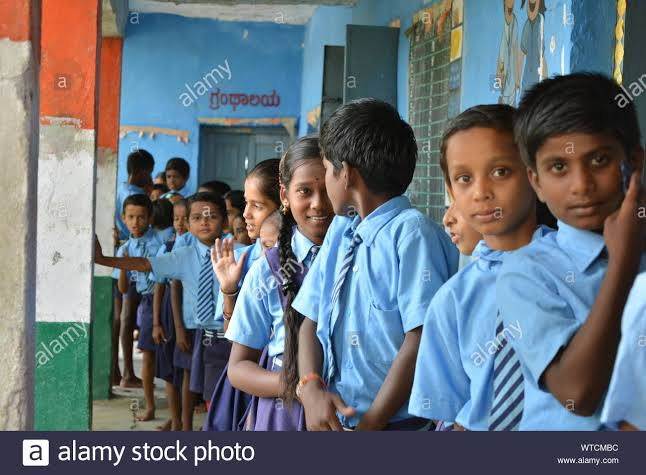student: (524, 87, 641, 228), (434, 111, 551, 240), (315, 107, 424, 218), (274, 139, 348, 238), (423, 191, 490, 261), (234, 159, 289, 241), (178, 187, 235, 240), (161, 153, 194, 197), (122, 192, 155, 235)
